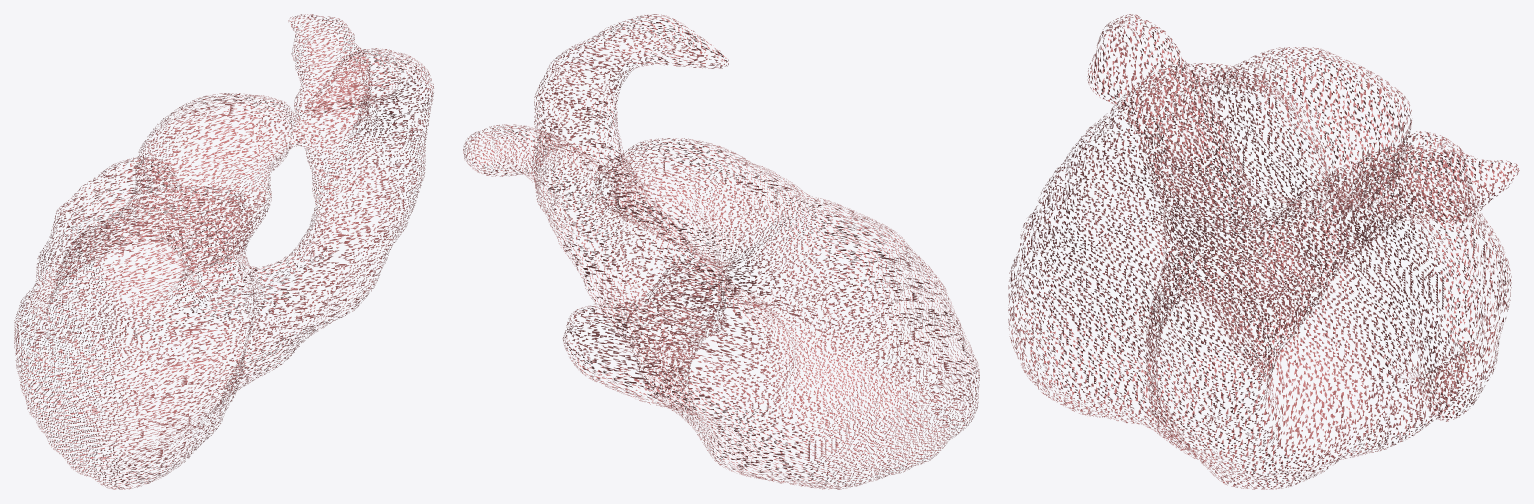
The model's file is heart.glb.
3 renders of one model, left to right at view 1: azimuth 30°, elevation 25°; view 2: azimuth 150°, elevation 25°; view 3: azimuth 270°, elevation 25°, orthographic. The views are drawn at different scales.
Size of the model in its own units: 138 by 127 by 102.
